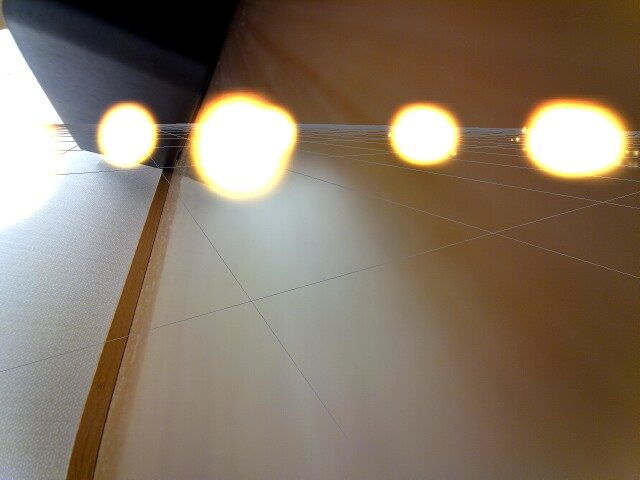firebig: (186, 79, 283, 202)
